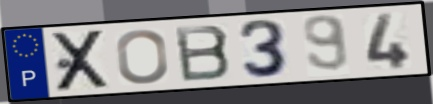3: (238, 17, 292, 80)
4: (363, 11, 414, 72)
9: (302, 14, 352, 78)
B: (172, 23, 234, 84)
O: (113, 27, 171, 86)
X: (50, 27, 114, 94)
